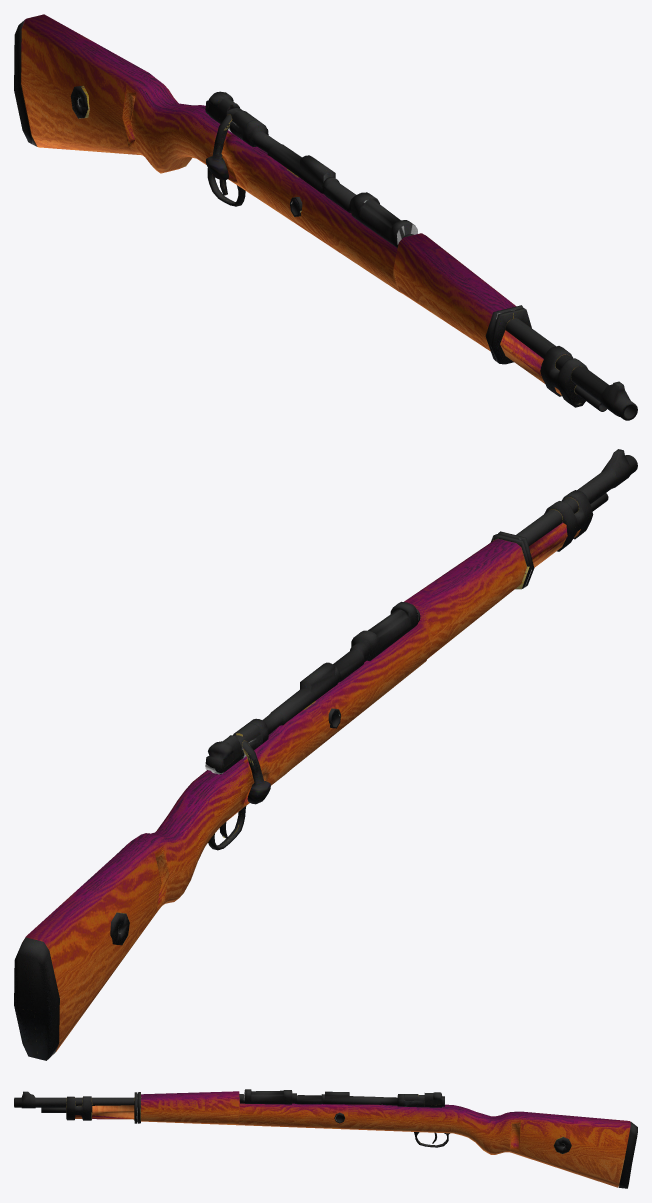
The model's file is pellington-sniper.glb.
The picture shows the model from 3 angles, top to bottom: view 1: azimuth 30°, elevation 25°; view 2: azimuth 150°, elevation 25°; view 3: azimuth 270°, elevation 25°; orthographic projection. The views are drawn at different scales.
Parts seen in each view (by area): view 1: sniper2; view 2: sniper2; view 3: sniper2.
Part boxes in pixels (left/top/right/bottom): sniper2: left=14, top=14, right=637, bottom=420; sniper2: left=14, top=449, right=637, bottom=1060; sniper2: left=14, top=1089, right=637, bottom=1188.
Size of the model in its own units: 0.3304 by 1.16 by 6.79.
1 material, 1 textured.
